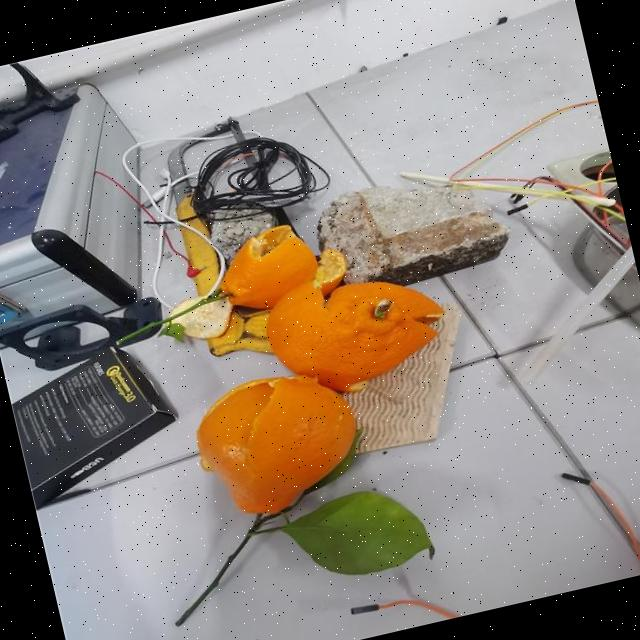orange-peel: (183, 357, 372, 527), (256, 252, 456, 404)
